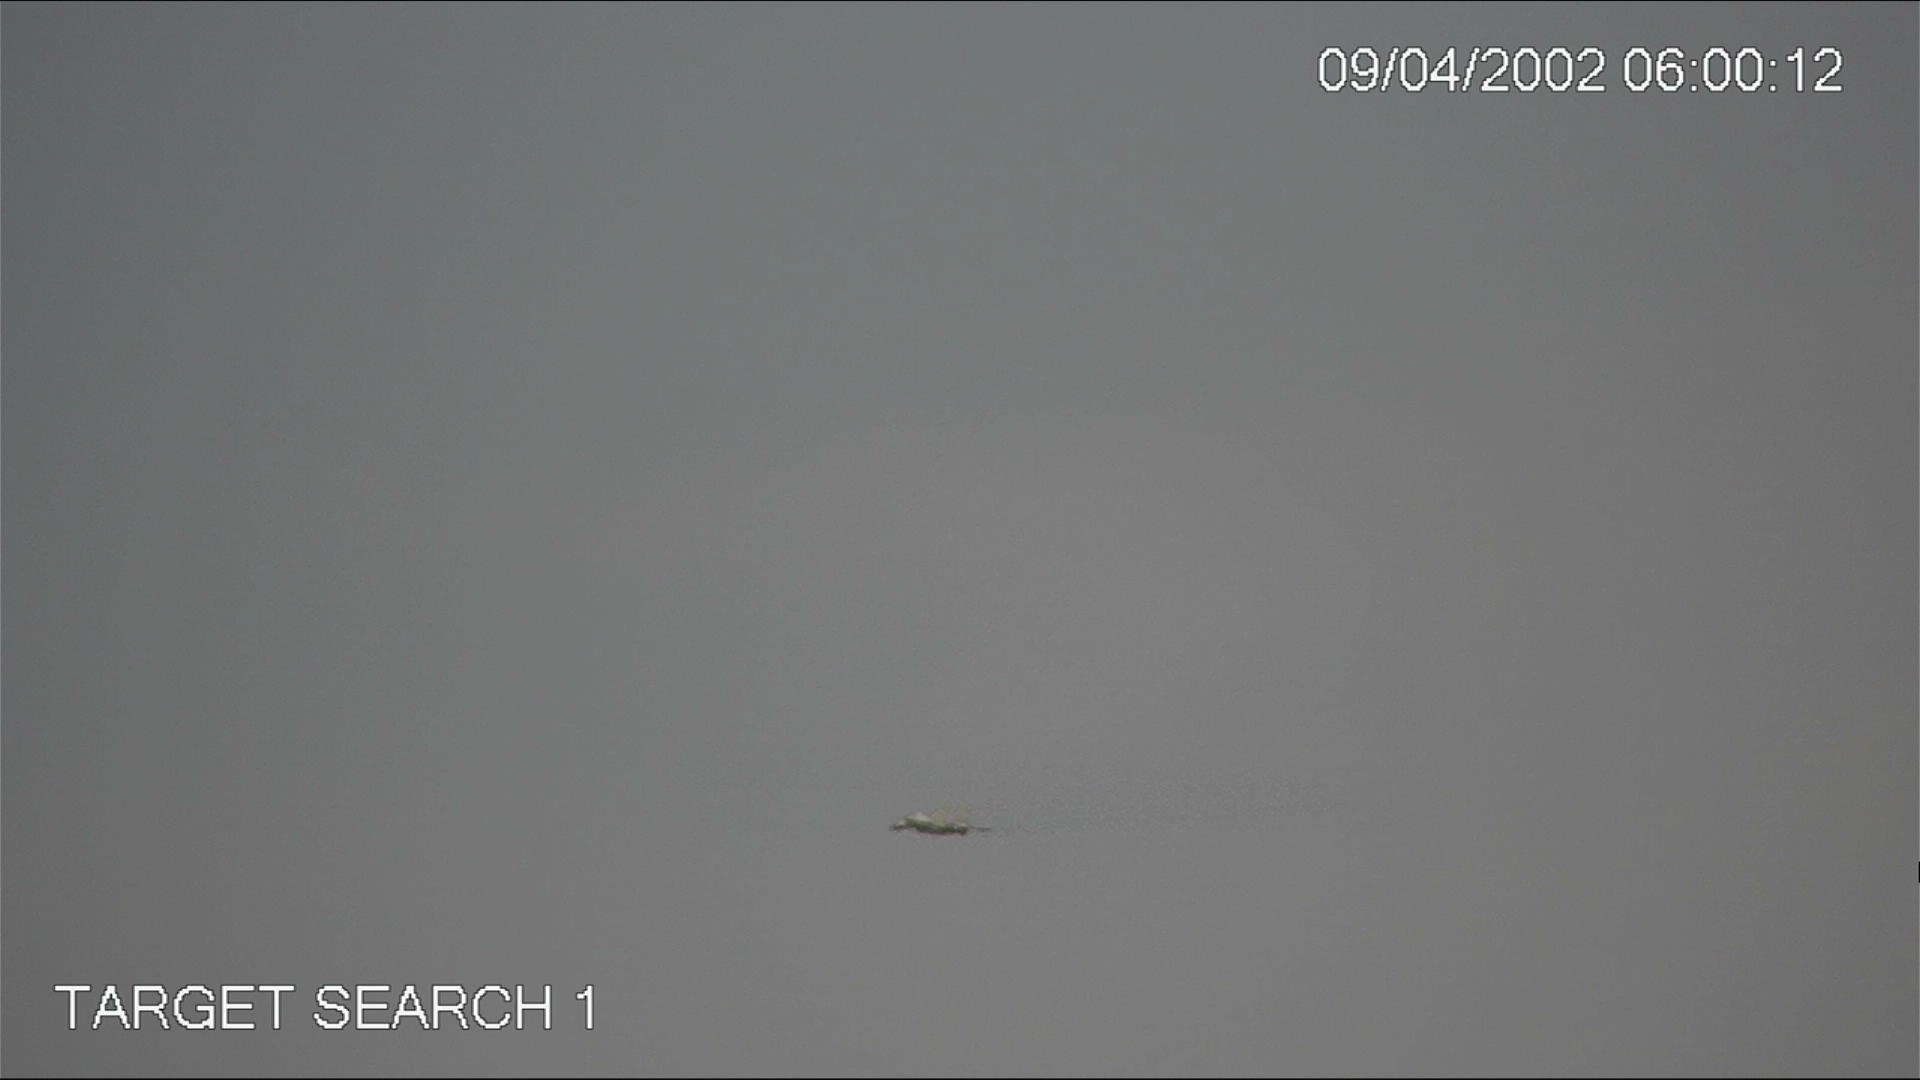SU_30: (887, 811, 988, 839)
